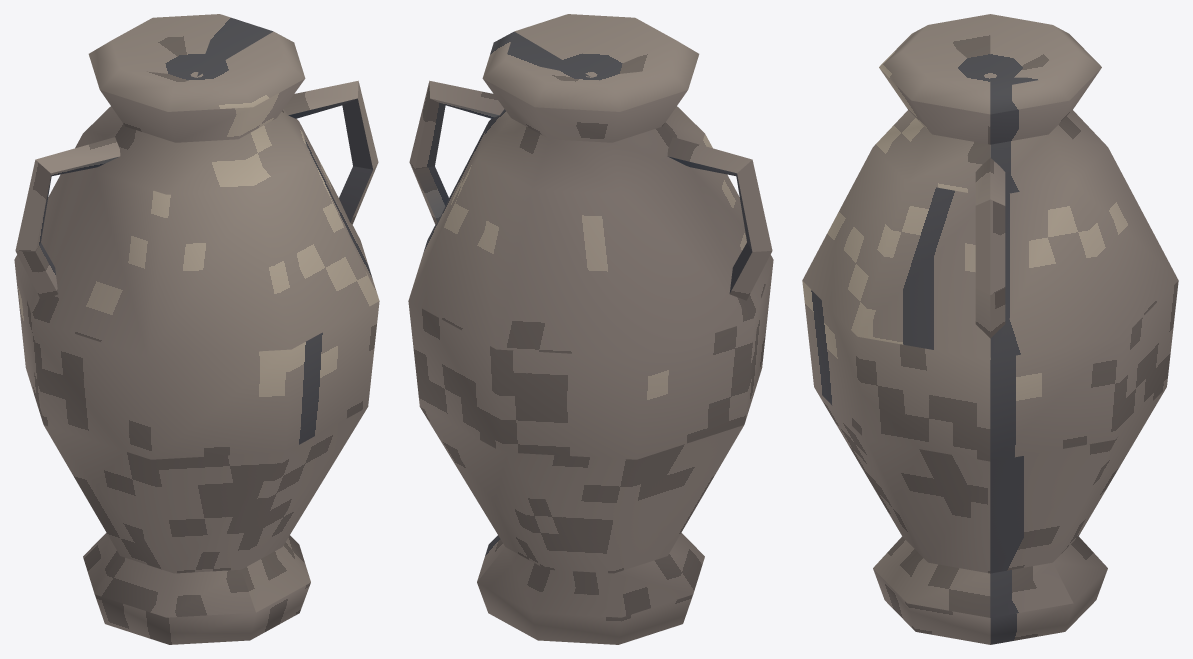
The model's file is dprop.breakable__urn.glb.
3 views of the same model, side by side, from view 1: azimuth 30°, elevation 25°; view 2: azimuth 150°, elevation 25°; view 3: azimuth 270°, elevation 25° (orthographic).
Visible parts, largest first — view 1: kit_urn, kit_handles; view 2: kit_urn, kit_handles; view 3: kit_urn, kit_handles.
Part boxes in pixels (left/top/right/bottom): kit_urn: left=14, top=14, right=379, bottom=644; kit_handles: left=15, top=80, right=378, bottom=300; kit_urn: left=408, top=14, right=773, bottom=644; kit_handles: left=409, top=80, right=772, bottom=300; kit_urn: left=802, top=14, right=1178, bottom=644; kit_handles: left=975, top=158, right=1005, bottom=338.
Bounding box in the file's own units: 0.7098 × 1.03 × 0.64.
1 material, 1 textured.
